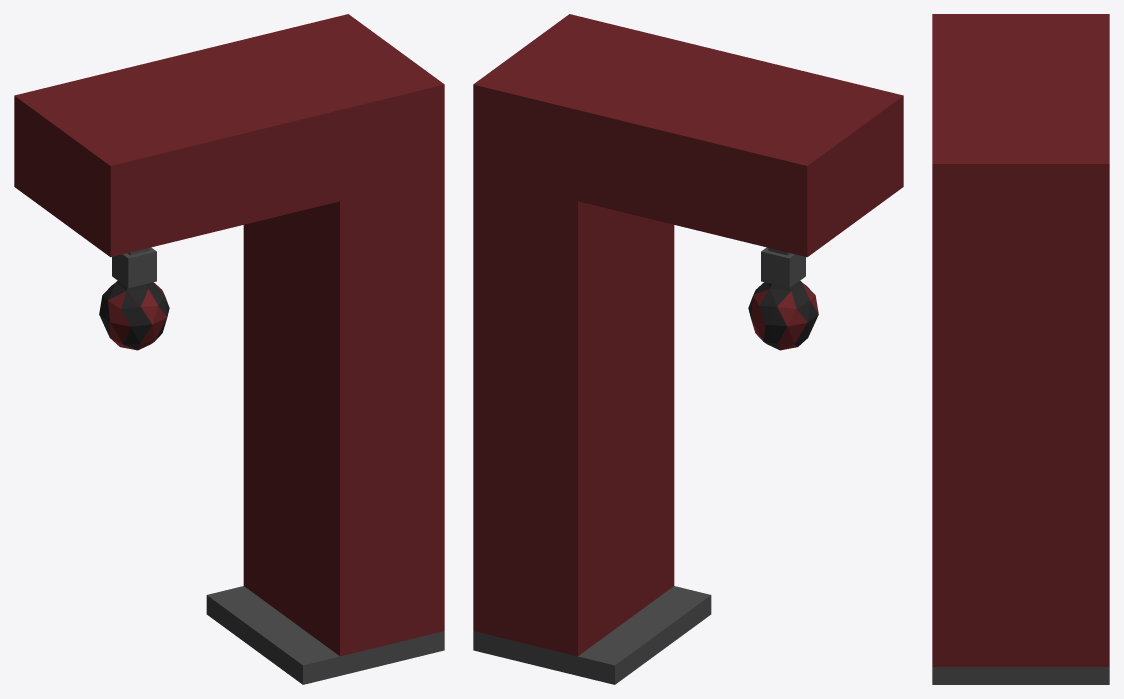
File: PunchMachine.fbx
3 renders of one model, left to right at view 1: azimuth 30°, elevation 25°; view 2: azimuth 150°, elevation 25°; view 3: azimuth 270°, elevation 25°, orthographic. The views are drawn at different scales.
Parts seen in each view (by area): view 1: Cube, Cube.001; view 2: Cube, Cube.001; view 3: Cube.
Part boxes in pixels (bbox=[...]): Cube: bbox=[14, 14, 444, 684]; Cube.001: bbox=[99, 247, 169, 350]; Cube: bbox=[473, 14, 903, 684]; Cube.001: bbox=[748, 247, 818, 350]; Cube: bbox=[932, 14, 1109, 684].
Bounding box in the file's own units: 98.79 × 160 × 49.33.
